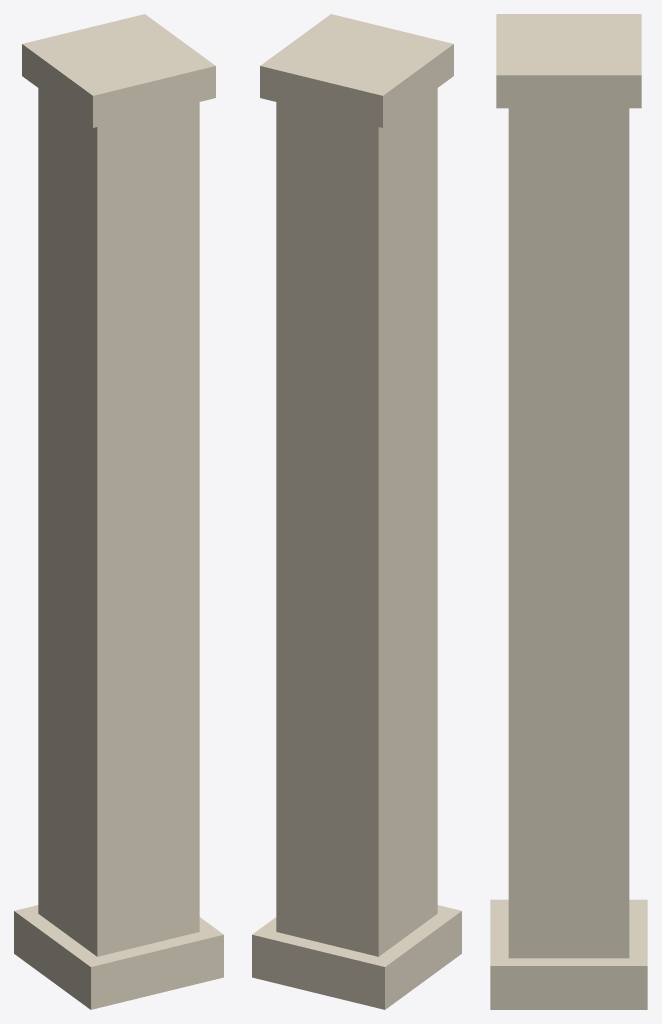
File: column.gltf
The picture shows the model from 3 angles, left to right: view 1: azimuth 30°, elevation 25°; view 2: azimuth 150°, elevation 25°; view 3: azimuth 270°, elevation 25°; orthographic projection. The views are drawn at different scales.
Size of the model in its own units: 0.52 by 3.4 by 0.52.
